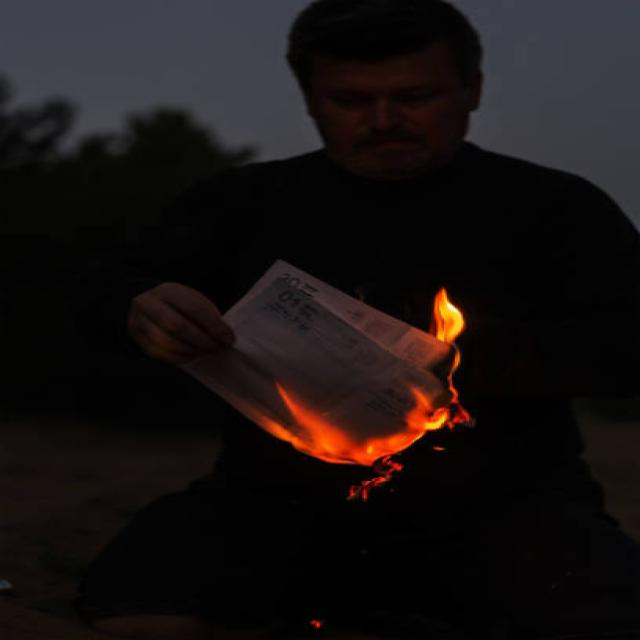fire: (275, 380, 321, 427), (433, 286, 466, 342), (309, 426, 351, 464)
